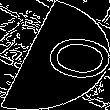O_W: (9, 26, 101, 84)
